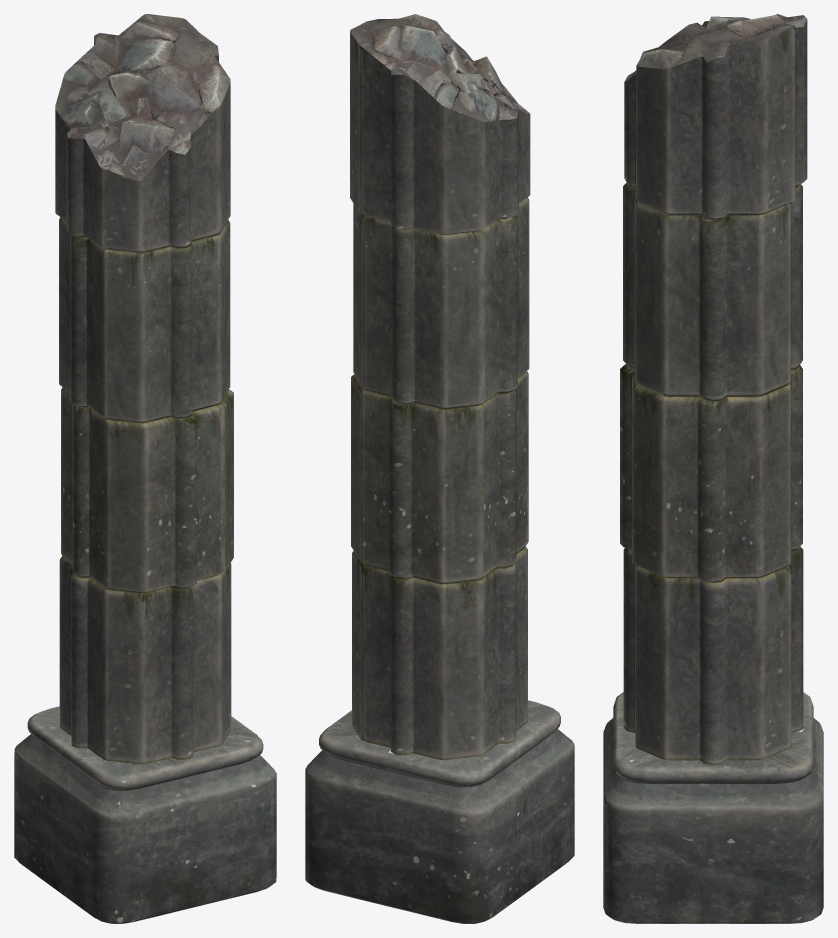
The picture shows the model from 3 angles, left to right: view 1: azimuth 30°, elevation 25°; view 2: azimuth 150°, elevation 25°; view 3: azimuth 270°, elevation 25°; orthographic projection. The views are drawn at different scales.
Parts seen in each view (by area): view 1: SM_SaradominTemple_Pillar_1x4_Dmg_02_v1_LOD0; view 2: SM_SaradominTemple_Pillar_1x4_Dmg_02_v1_LOD0; view 3: SM_SaradominTemple_Pillar_1x4_Dmg_02_v1_LOD0.
Boxes of the visible parts, box(x1,y1,x2,y2) form: SM_SaradominTemple_Pillar_1x4_Dmg_02_v1_LOD0: box(14, 14, 276, 923); SM_SaradominTemple_Pillar_1x4_Dmg_02_v1_LOD0: box(305, 14, 574, 923); SM_SaradominTemple_Pillar_1x4_Dmg_02_v1_LOD0: box(603, 14, 823, 923).
Bounding box in the file's own units: 1.66 × 7.22 × 1.65.
2 materials, 2 textured.
